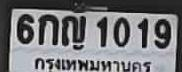0: (113, 16, 129, 46)
1: (137, 17, 147, 47), (96, 16, 106, 46)
6: (16, 13, 33, 43)
9: (153, 18, 170, 48)
A01: (38, 13, 58, 44)
A13: (61, 14, 85, 46)
BKK: (33, 54, 152, 72)
